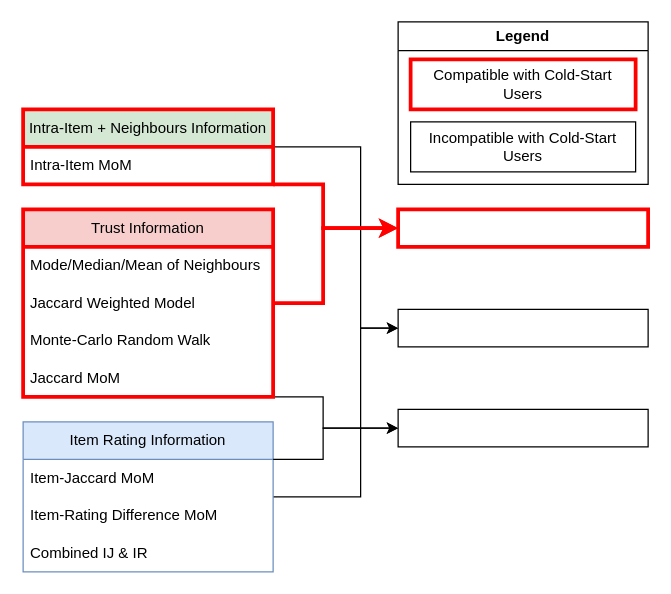
Image size: 671x594. Some labels were removed from this diagram. The centre of each missing label's shape, as x and y in pixels:
"Combined Jaccard & IR MoM" goes at point (522, 427).
"Jaccard Intra-Item MoM" goes at point (522, 227).
"Weighted Item-Rating MoM" goes at point (522, 327).
